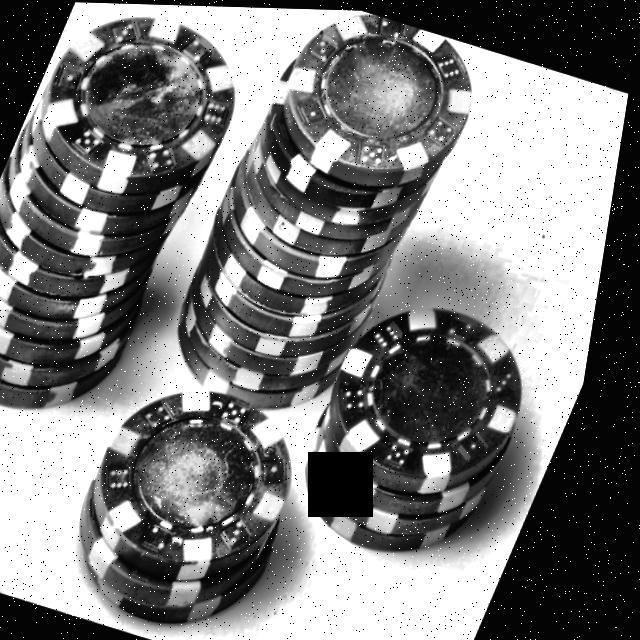Chip: (141, 4, 494, 434), (0, 0, 270, 437), (284, 274, 585, 579), (53, 356, 358, 640)
